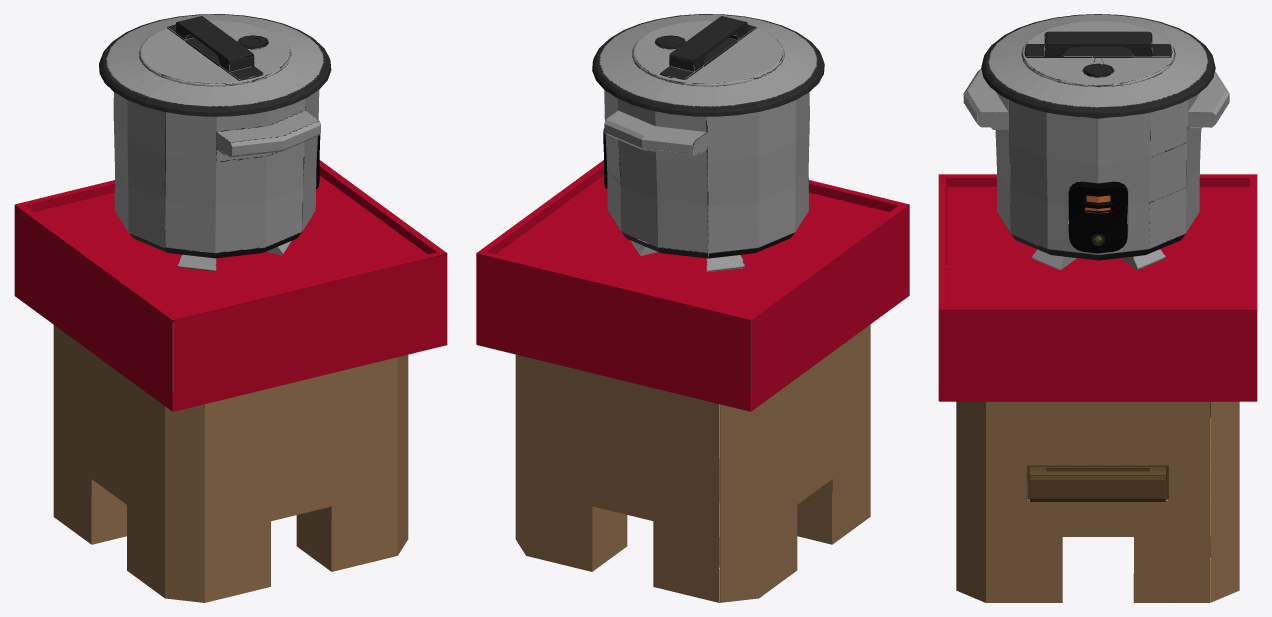
File: Rice_Cooker_Station.fbx
3 renders of one model, left to right at view 1: azimuth 30°, elevation 25°; view 2: azimuth 150°, elevation 25°; view 3: azimuth 270°, elevation 25°, orthographic.
Parts seen in each view (by area): view 1: Table, Rice Cooker, Cylinder; view 2: Table, Rice Cooker, Cylinder; view 3: Table, Rice Cooker, Cylinder.
Part boxes in pixels (x1,y1,x2,y2): Table: (14,160,447,602); Rice Cooker: (113,90,320,271); Cylinder: (99,14,331,116); Table: (476,160,909,602); Rice Cooker: (603,90,809,272); Cylinder: (592,14,824,116); Table: (938,174,1257,602); Rice Cooker: (963,69,1229,270); Cylinder: (981,14,1215,117).
Bounding box in the file's own units: 199 × 341 × 199.
